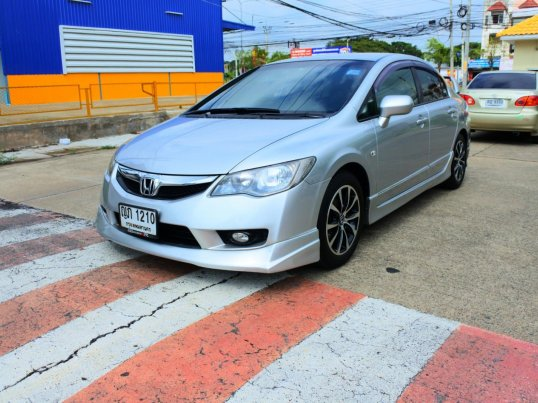sedan: (91, 51, 471, 279)
